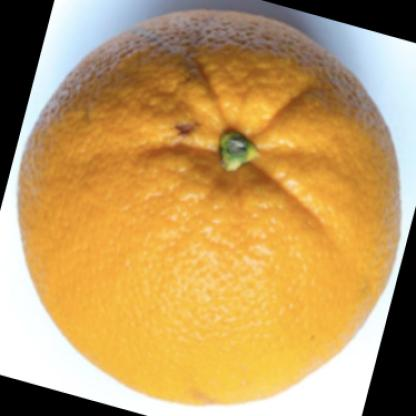fresh: (24, 9, 399, 402)
